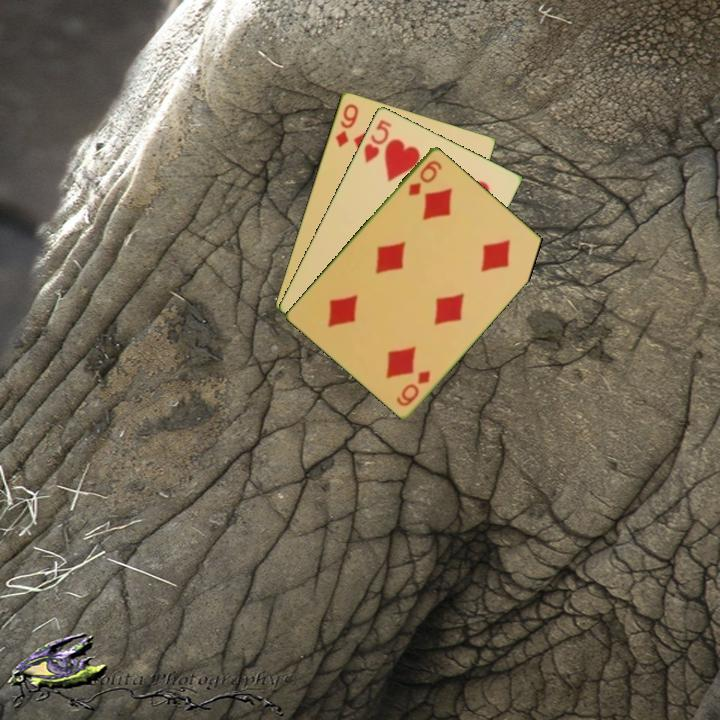5h: (360, 116, 394, 166)
6d: (405, 156, 445, 199), (393, 366, 433, 409)
9d: (331, 100, 361, 150)
